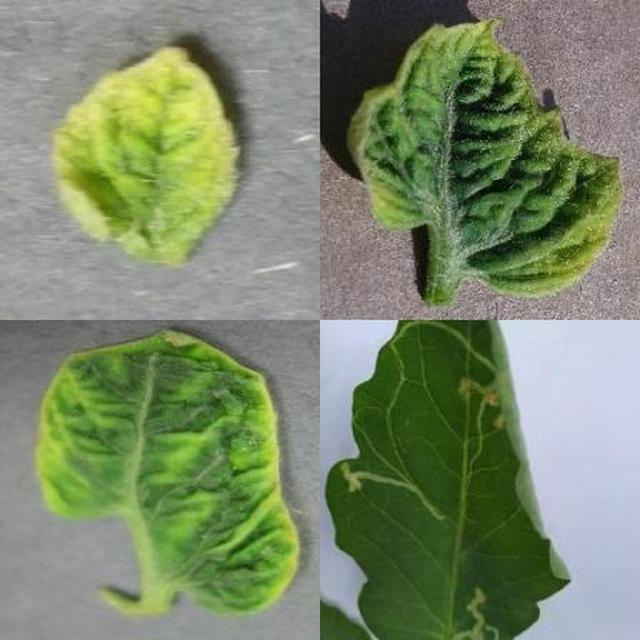Yellow Leaf Curl Virus: (208, 221, 640, 640)
